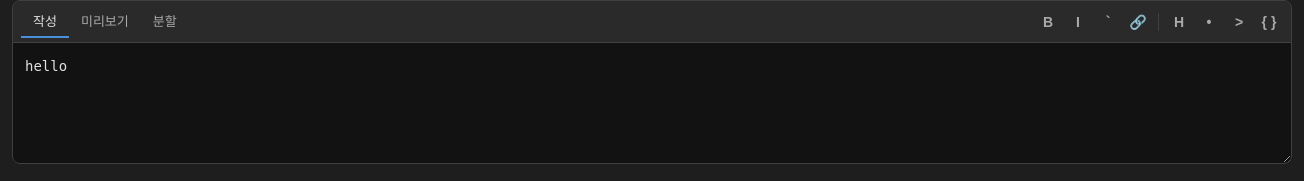
Test case: MarkdownEditor › shows both textarea and preview in split mode
Click the tab "분할": coordinates (165, 22) [141,5,189,38]
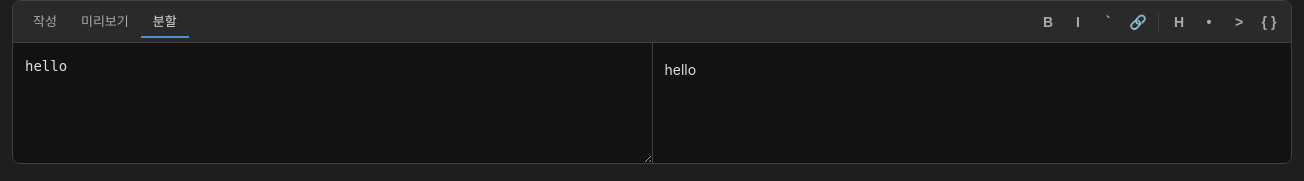
Expected: the text box named "마크다운 입력" is shown, [13,43,652,163]
Expected: the element named "마크다운 미리보기" is shown, [652,43,1291,163]
